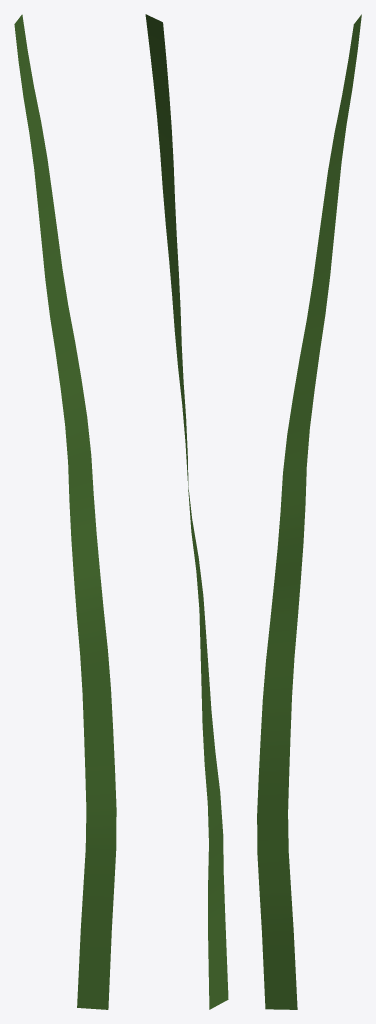
The model's file is plant_swamp_kelp_giant_A_solo_C.fbx.
The picture shows the model from 3 angles, left to right: view 1: azimuth 90°, elevation 25°; view 2: azimuth 150°, elevation 25°; view 3: azimuth 270°, elevation 25°; orthographic projection. The views are drawn at different scales.
Parts seen in each view (by area): view 1: plant_swamp_kelp_giant_A_solo_C; view 2: plant_swamp_kelp_giant_A_solo_C; view 3: plant_swamp_kelp_giant_A_solo_C.
Part boxes in pixels (<box>): plant_swamp_kelp_giant_A_solo_C: <box>14,14,116,1009</box>; plant_swamp_kelp_giant_A_solo_C: <box>145,14,228,1009</box>; plant_swamp_kelp_giant_A_solo_C: <box>257,14,361,1009</box>.
Size of the model in its own units: 19.64 by 490 by 46.39.
